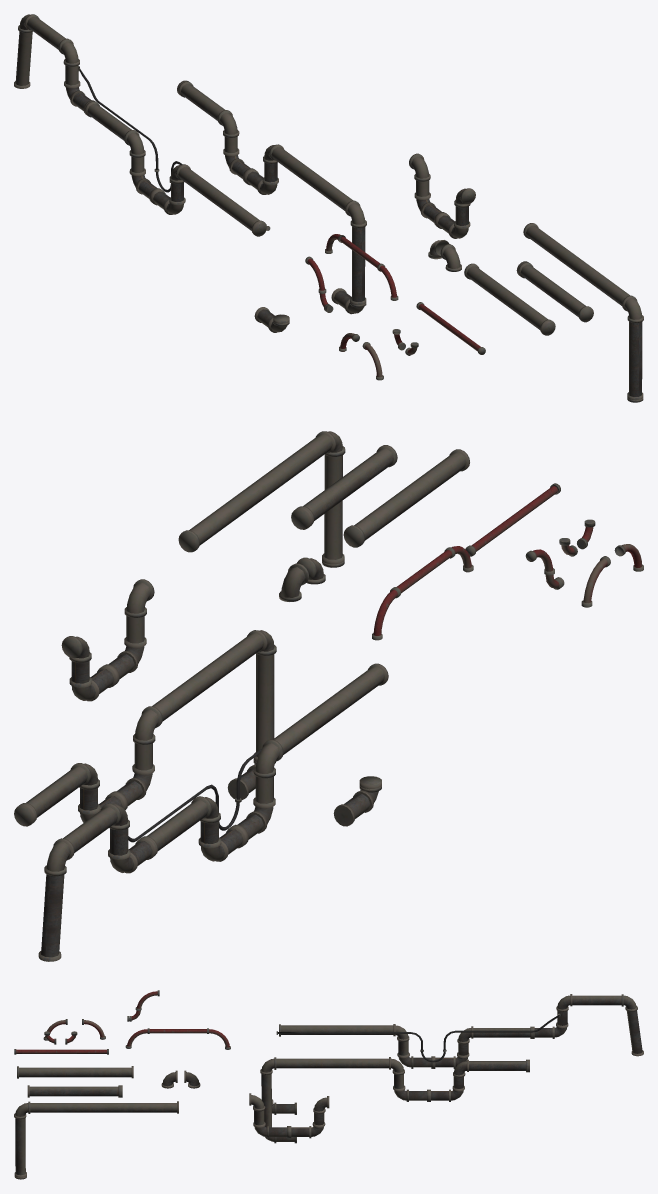
The model's file is pipegroup.fbx.
3 renders of one model, top to bottom at view 1: azimuth 30°, elevation 25°; view 2: azimuth 150°, elevation 25°; view 3: azimuth 270°, elevation 25°, orthographic. The views are drawn at different scales.
Parts seen in each view (by area): view 1: prefab_normalpipe4, prefab_normalpipe2, prefab_normalpipe1, prefab_normalpipe3, straight_normalpipe1, straight_normalpipe2, curve_redpipe4, curve_normalpipe3, straight_redpipe1; view 2: prefab_normalpipe4, prefab_normalpipe2, prefab_normalpipe1, prefab_normalpipe3, straight_normalpipe1, straight_normalpipe2, curve_redpipe4, curve_normalpipe3, straight_redpipe1, curve_normalpipe2; view 3: prefab_normalpipe4, prefab_normalpipe2, prefab_normalpipe1, prefab_normalpipe3, straight_normalpipe1, straight_normalpipe2, curve_redpipe4, straight_redpipe1.
Boxes of the visible parts, box(x1,y1,x2,y2) form: prefab_normalpipe4: box(14, 14, 270, 236); prefab_normalpipe2: box(177, 80, 366, 314); prefab_normalpipe1: box(523, 223, 643, 402); prefab_normalpipe3: box(409, 153, 475, 238); straight_normalpipe1: box(464, 263, 555, 335); straight_normalpipe2: box(516, 261, 593, 322); curve_redpipe4: box(325, 234, 398, 300); curve_normalpipe3: box(254, 307, 289, 332); straight_redpipe1: box(416, 302, 485, 354); prefab_normalpipe4: box(38, 663, 388, 961); prefab_normalpipe2: box(14, 630, 276, 826); prefab_normalpipe1: box(178, 431, 345, 567); prefab_normalpipe3: box(61, 579, 154, 701); straight_normalpipe1: box(343, 449, 469, 547); straight_normalpipe2: box(291, 445, 397, 529); curve_redpipe4: box(372, 546, 473, 640); curve_normalpipe3: box(333, 776, 381, 826); straight_redpipe1: box(465, 483, 560, 556); curve_normalpipe2: box(279, 563, 308, 601); prefab_normalpipe4: box(276, 994, 643, 1068); prefab_normalpipe2: box(260, 1057, 529, 1143); prefab_normalpipe1: box(14, 1101, 178, 1179); prefab_normalpipe3: box(249, 1093, 329, 1138); straight_normalpipe1: box(17, 1066, 133, 1078); straight_normalpipe2: box(27, 1085, 122, 1097); curve_redpipe4: box(125, 1028, 230, 1049); straight_redpipe1: box(14, 1049, 108, 1054).
Bounding box in the file's own units: 420 × 246 × 1221.
1 material, 1 textured.
